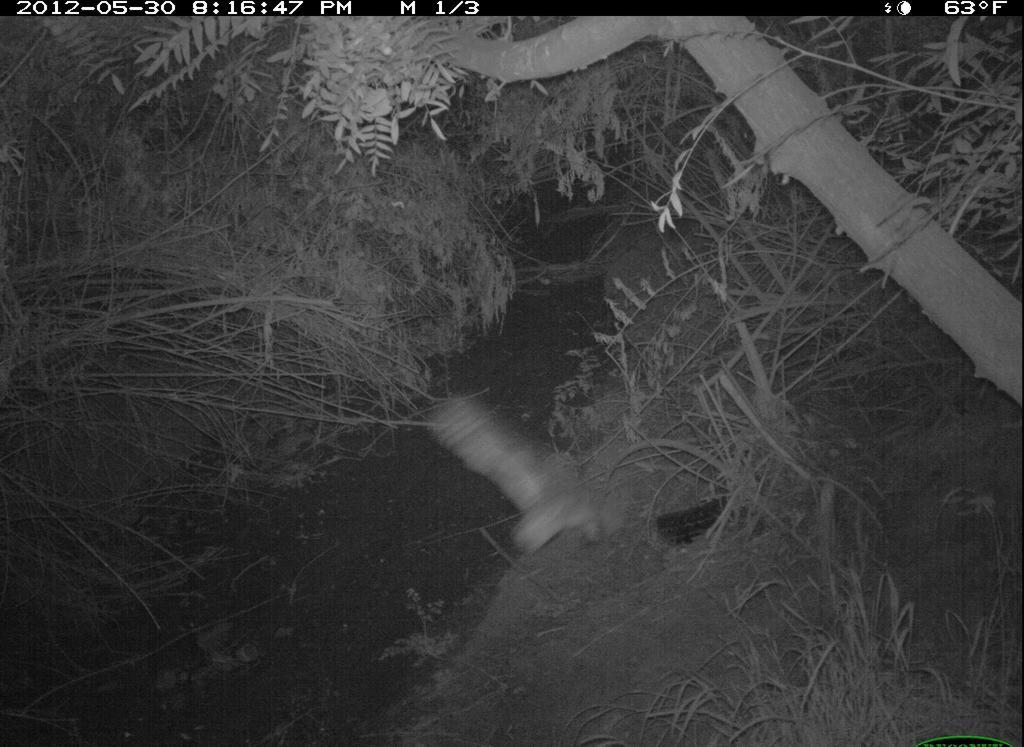bird: (414, 391, 610, 563)
